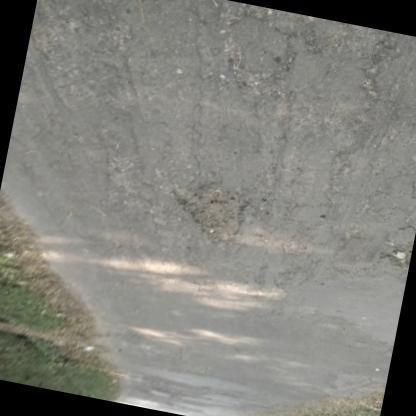pothole: (216, 0, 322, 92), (173, 177, 246, 249)
